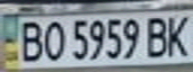5: (103, 16, 127, 61), (66, 16, 90, 61)
9: (121, 15, 145, 60), (84, 17, 106, 61)
B: (15, 18, 45, 63), (142, 14, 172, 58)
K: (163, 11, 193, 57)
O: (39, 18, 66, 63)
